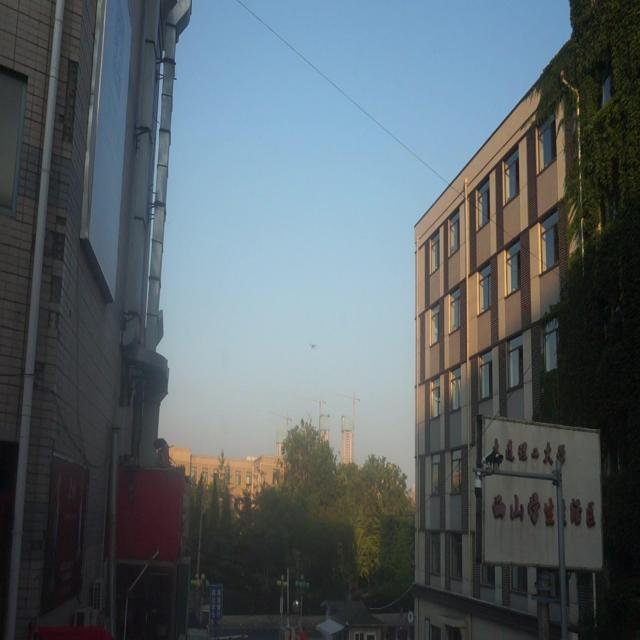UAV: (309, 343, 317, 350)
